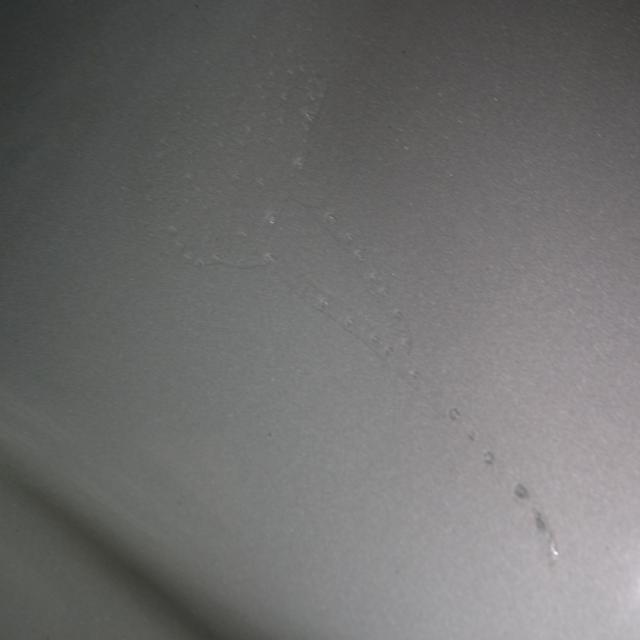runs: (129, 0, 560, 566)
